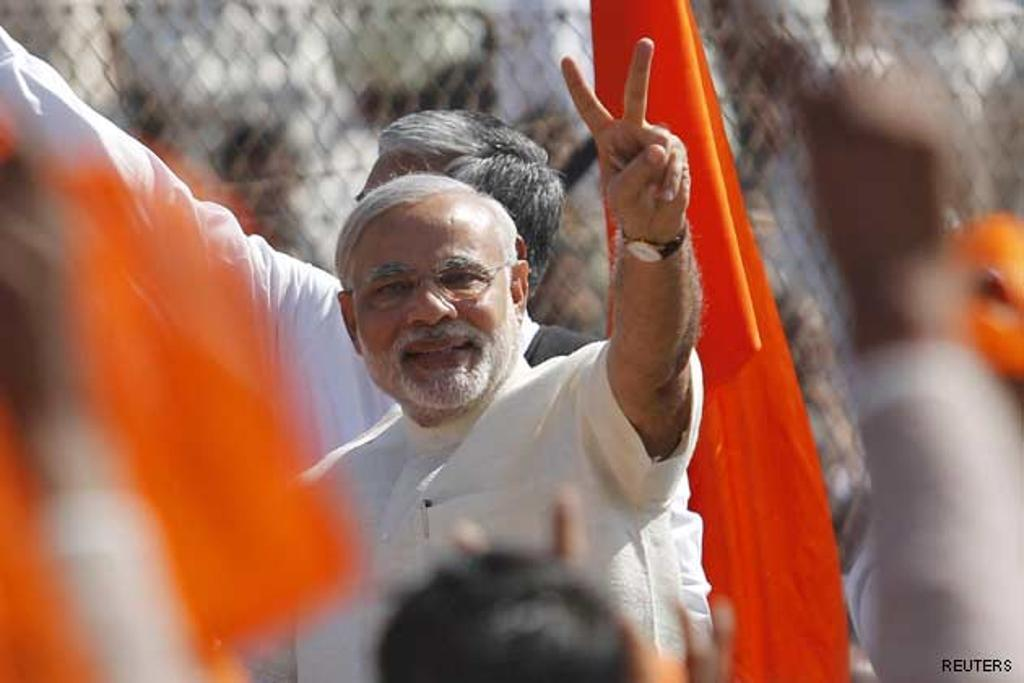face: (363, 213, 511, 407)
